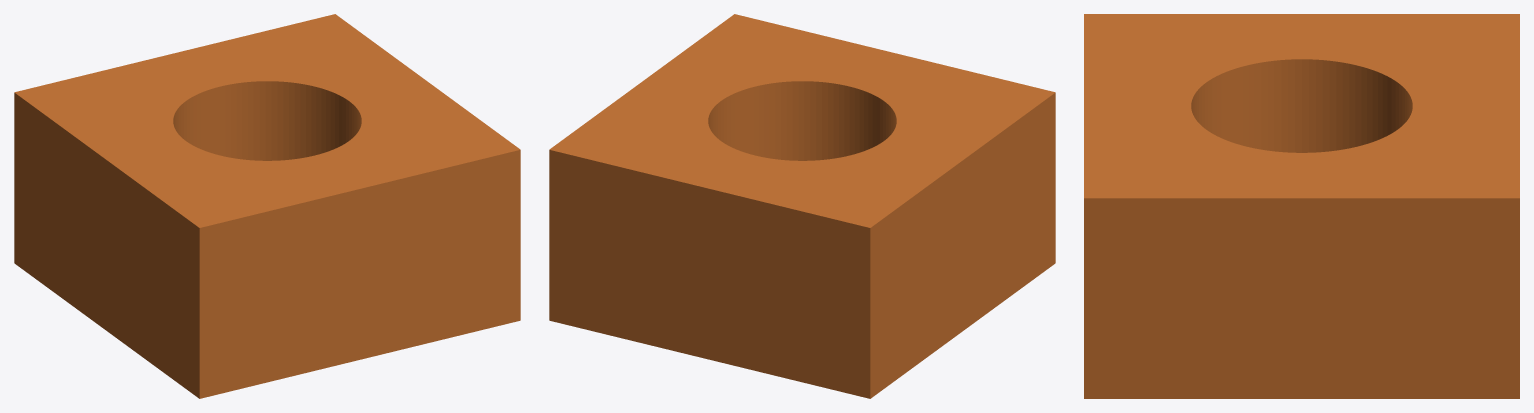
File: HoleO.fbx
The picture shows the model from 3 angles, left to right: view 1: azimuth 30°, elevation 25°; view 2: azimuth 150°, elevation 25°; view 3: azimuth 270°, elevation 25°; orthographic projection. The views are drawn at different scales.
Parts seen in each view (by area): view 1: HoleO; view 2: HoleO; view 3: HoleO.
Boxes of the visible parts, box(x1,y1,x2,y2) form: HoleO: box(14, 14, 520, 398); HoleO: box(549, 14, 1055, 398); HoleO: box(1084, 14, 1519, 398).
Size of the model in its own units: 1180 by 600 by 1180.
